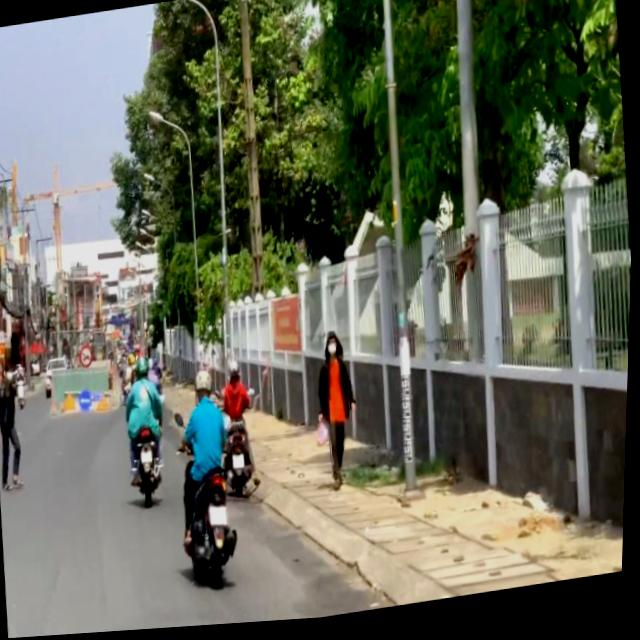Cac xe chi duoc re trai: (80, 392, 94, 412)
Cam xe oto: (81, 346, 95, 370)
